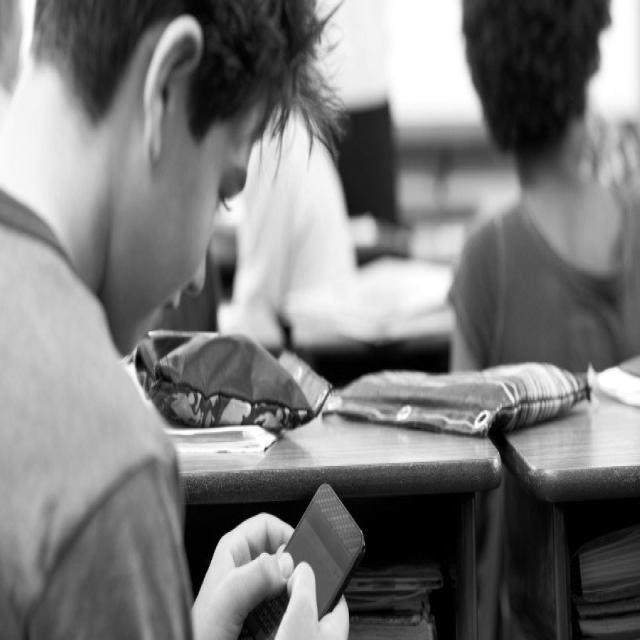phone: (238, 482, 366, 638)
